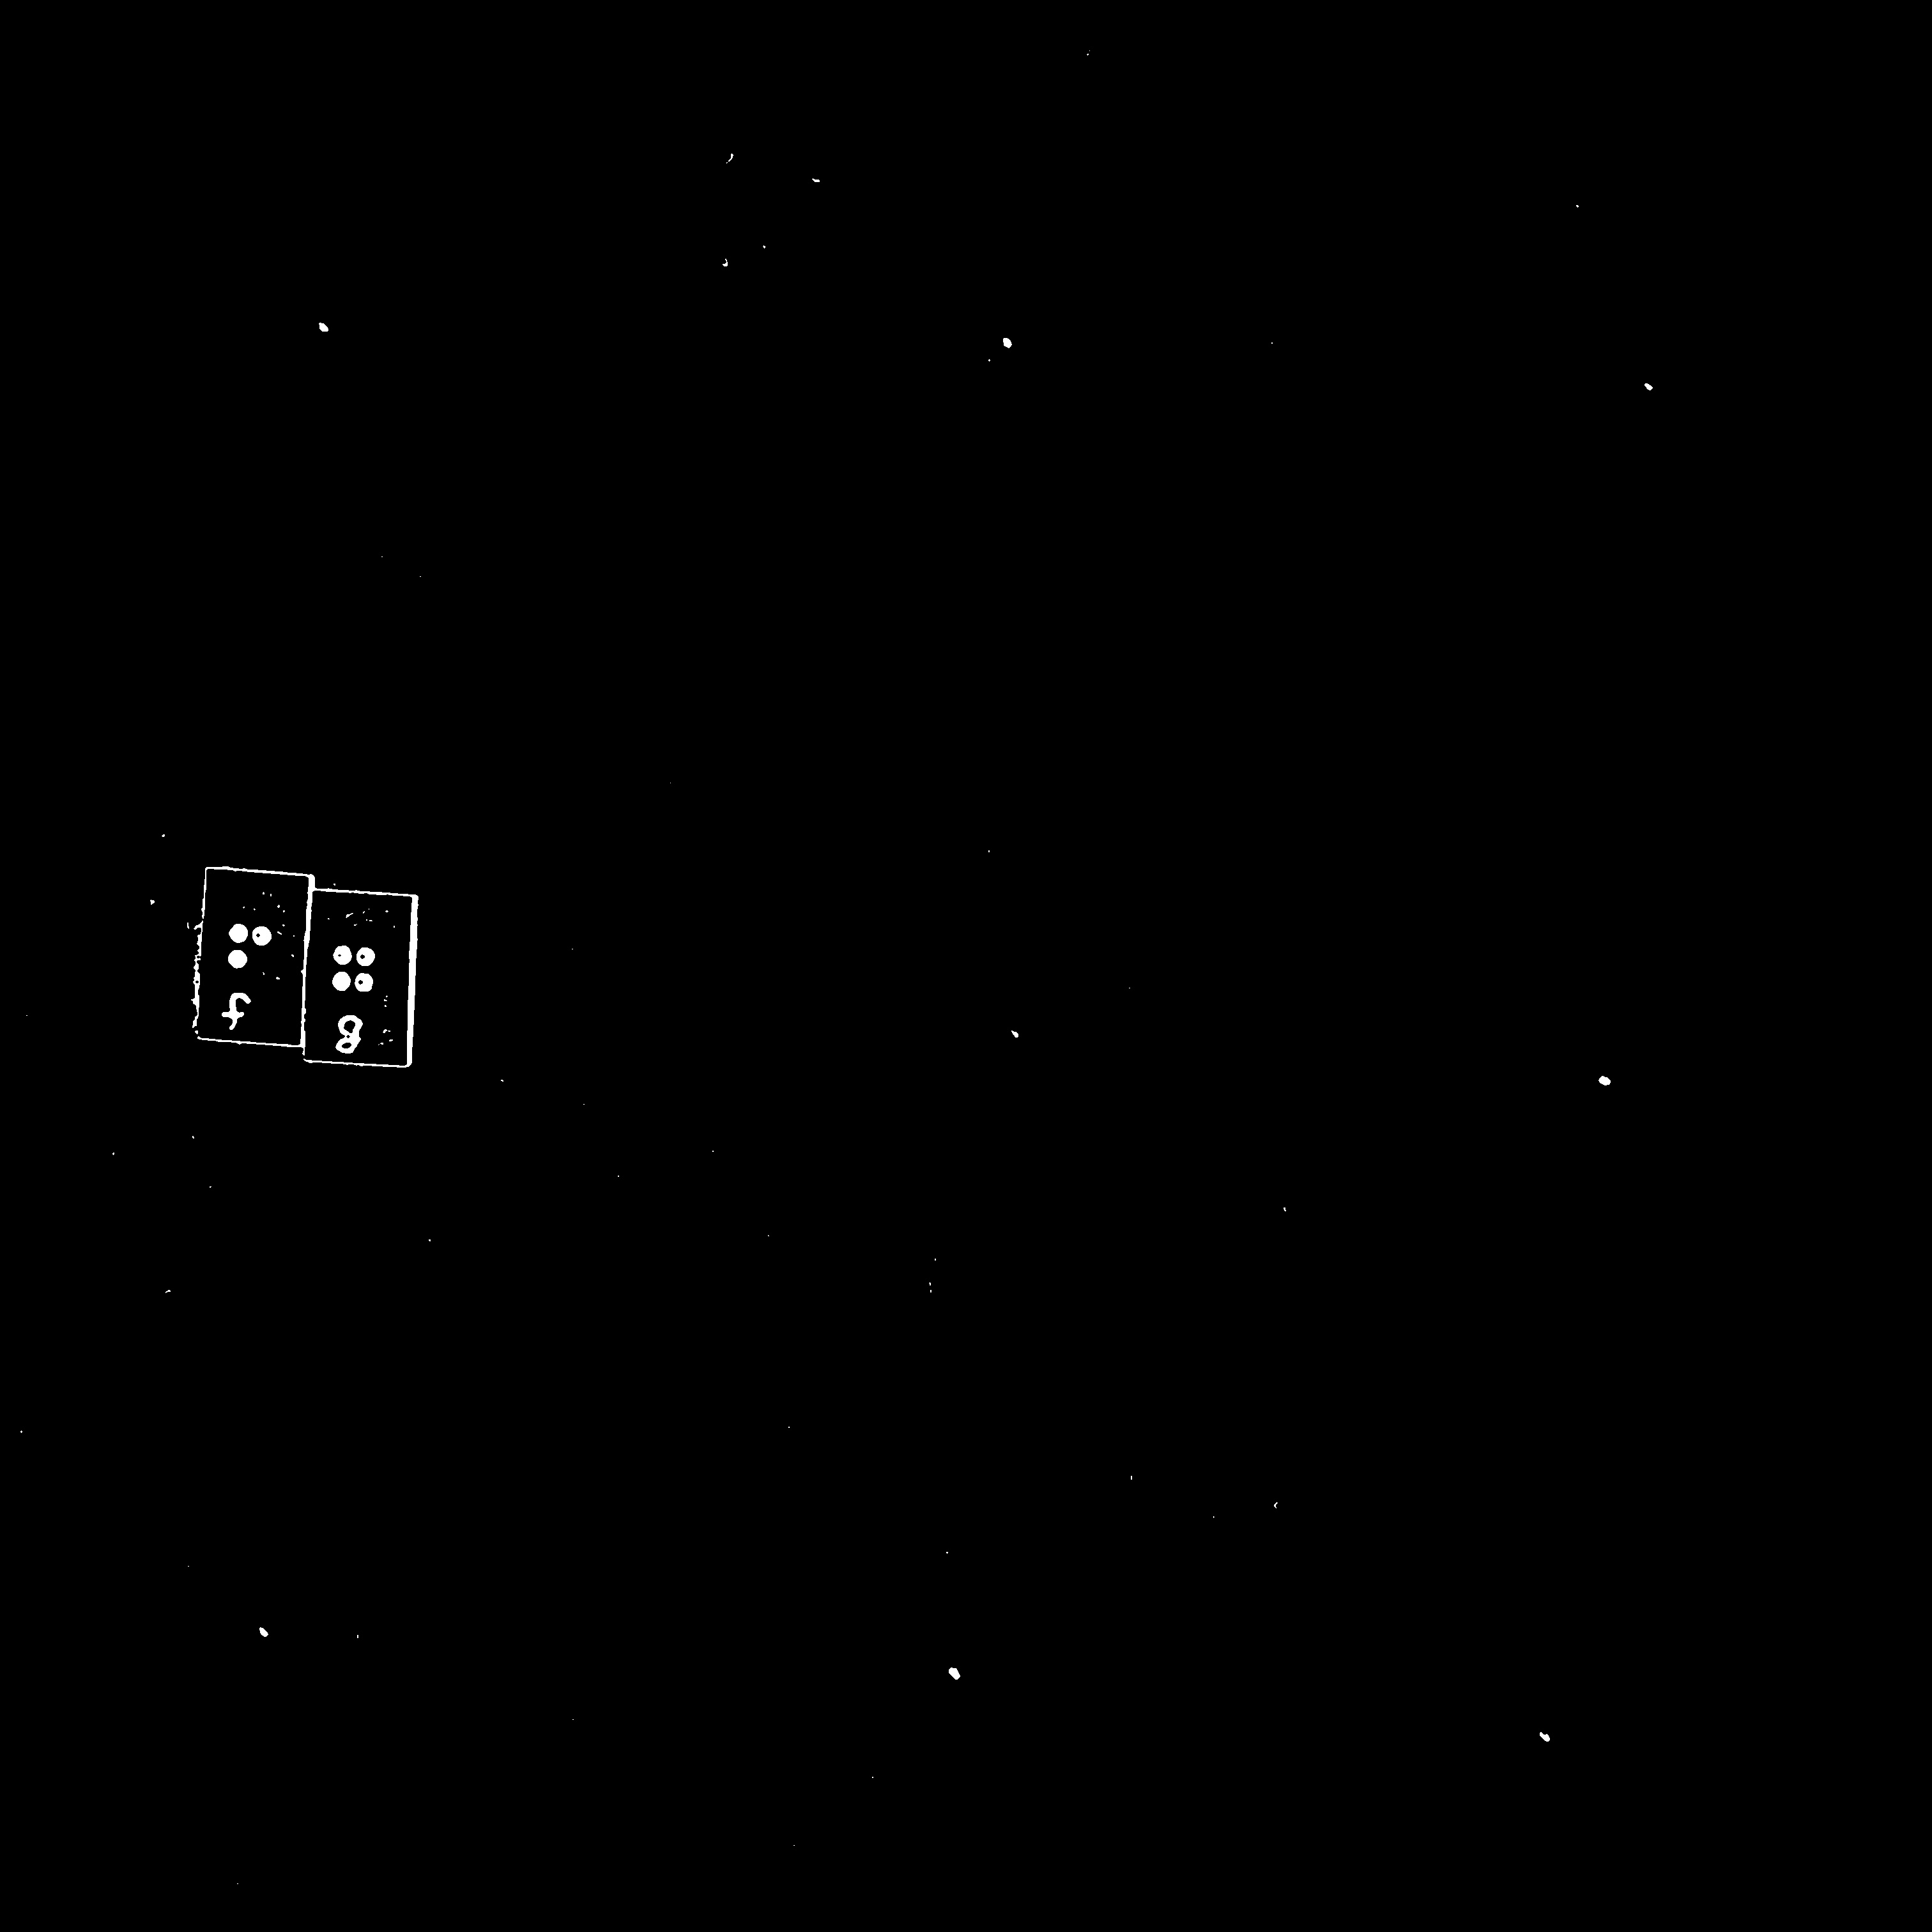f: (218, 909, 282, 1001)
g: (326, 935, 383, 1020)
